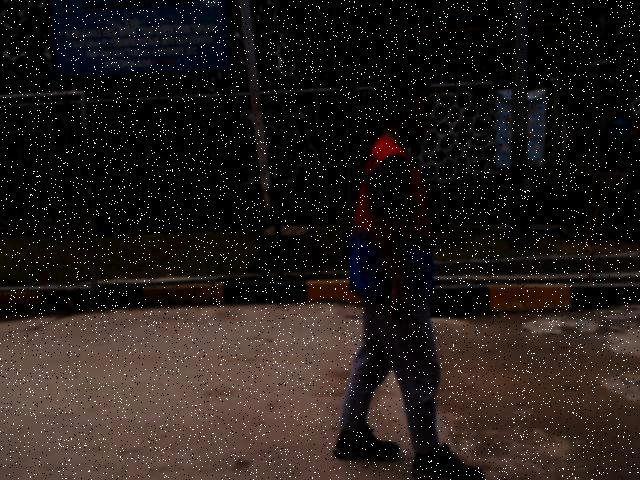safety-shoes: (407, 441, 486, 479), (331, 421, 404, 461)
